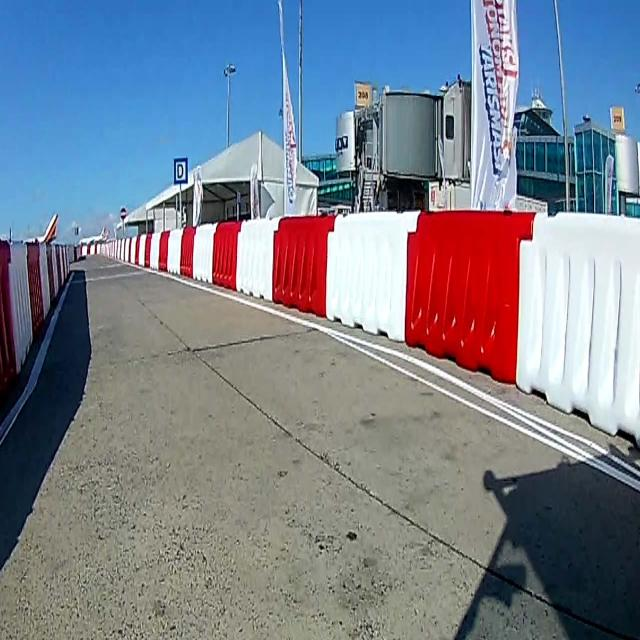durak: (173, 156, 188, 185)
girisyok: (120, 206, 127, 222)
